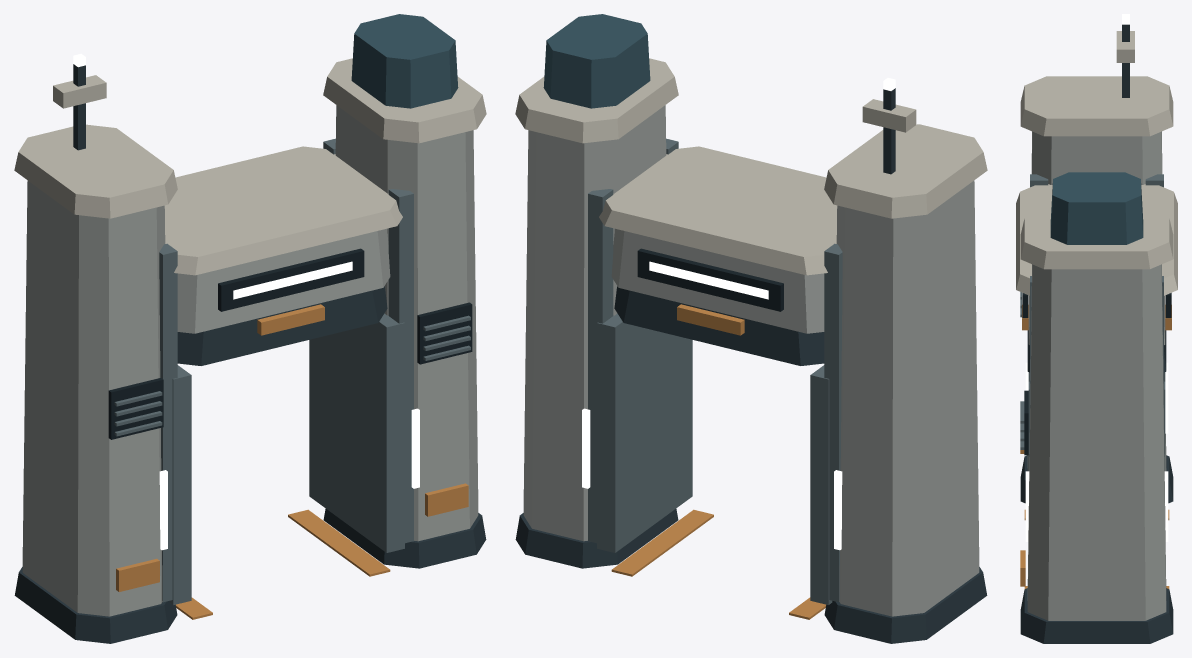
File: gate_t3.glb
3 renders of one model, left to right at view 1: azimuth 30°, elevation 25°; view 2: azimuth 150°, elevation 25°; view 3: azimuth 270°, elevation 25°, orthographic. The views are drawn at different scales.
Parts seen in each view (by area): view 1: body, glow; view 2: body, glow; view 3: body, glow.
Part boxes in pixels (<box>): body: <box>14,14,486,643</box>; glow: <box>73,53,419,550</box>; body: <box>515,14,987,643</box>; glow: <box>582,78,895,550</box>; body: <box>1016,24,1177,643</box>; glow: <box>1022,14,1171,541</box>.
Bounding box in the file's own units: 3.63 × 4.52 × 1.4.
